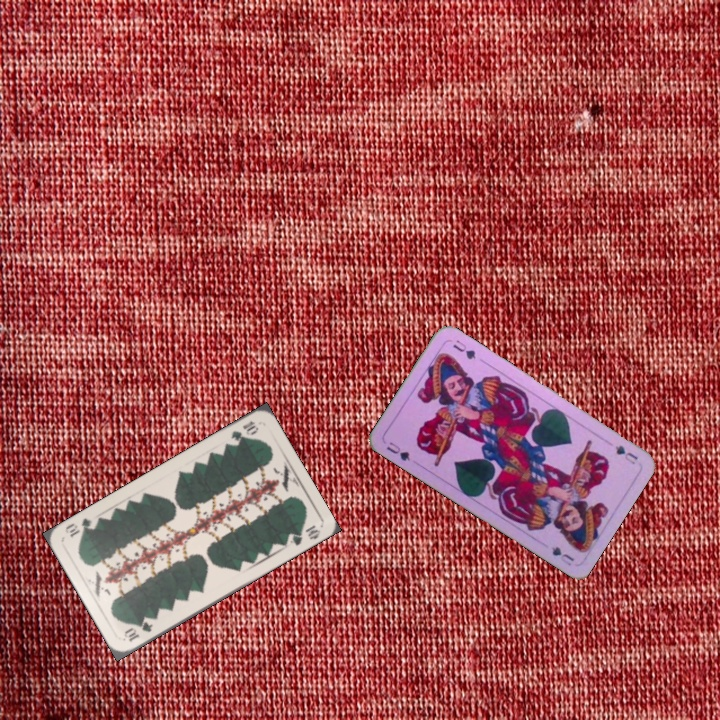G10: (227, 417, 261, 445), (120, 617, 155, 644)
GU: (382, 438, 413, 464), (611, 441, 641, 467)
